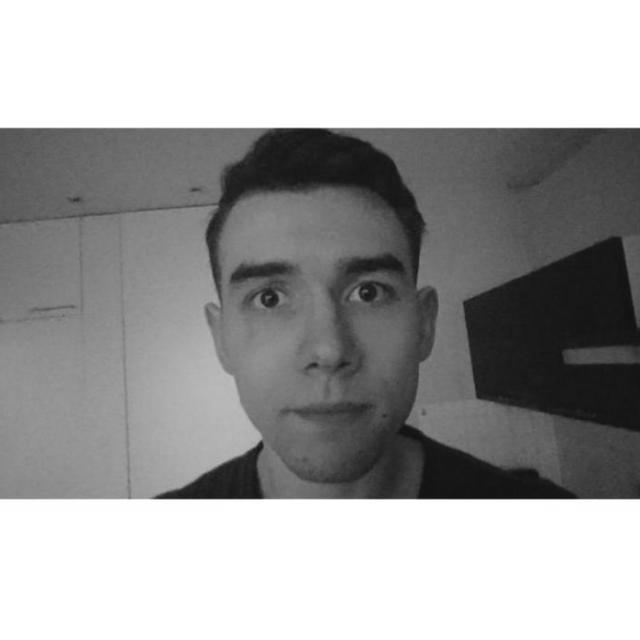real: (207, 138, 435, 476)
